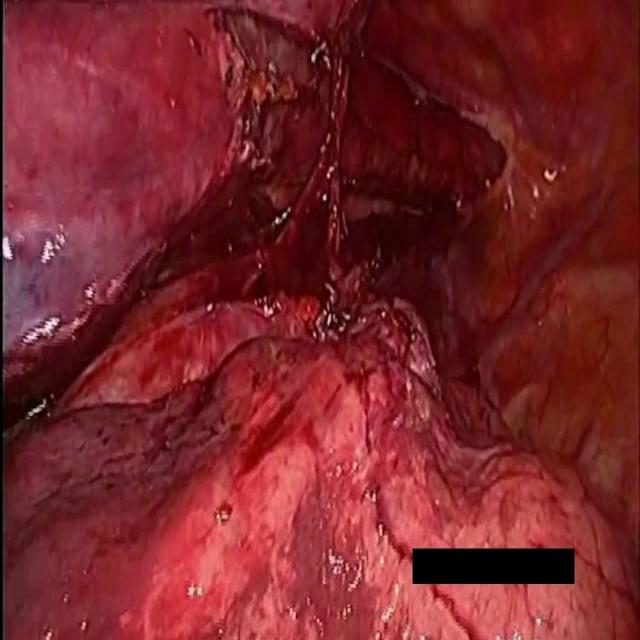surgical-area: (404, 583, 581, 639)
